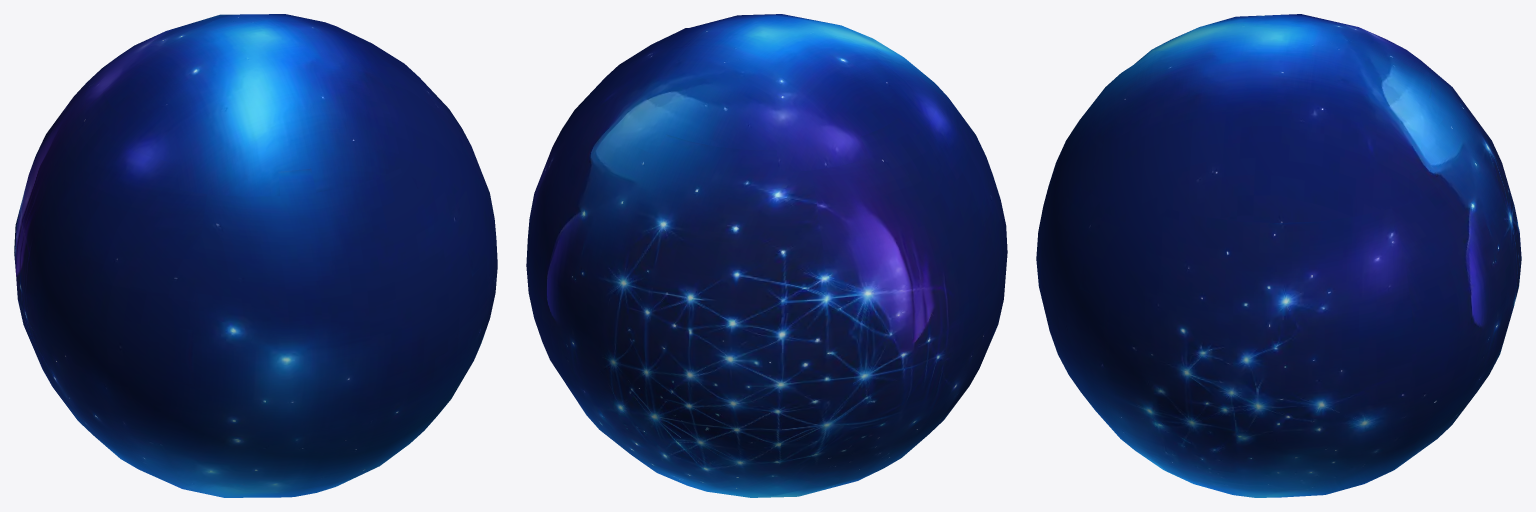
3 renders of one model, left to right at view 1: azimuth 30°, elevation 25°; view 2: azimuth 150°, elevation 25°; view 3: azimuth 270°, elevation 25°, orthographic.
Visible parts, largest first — view 1: mesh_rep_0_ori_repair_quad; view 2: mesh_rep_0_ori_repair_quad; view 3: mesh_rep_0_ori_repair_quad.
Boxes of the visible parts, x1,y1,x2,y2 form: mesh_rep_0_ori_repair_quad: (14,14,497,497); mesh_rep_0_ori_repair_quad: (526,14,1007,497); mesh_rep_0_ori_repair_quad: (1036,14,1521,497).
Bounding box in the file's own units: 1.2 × 1.2 × 1.2.
1 material, 1 textured.
